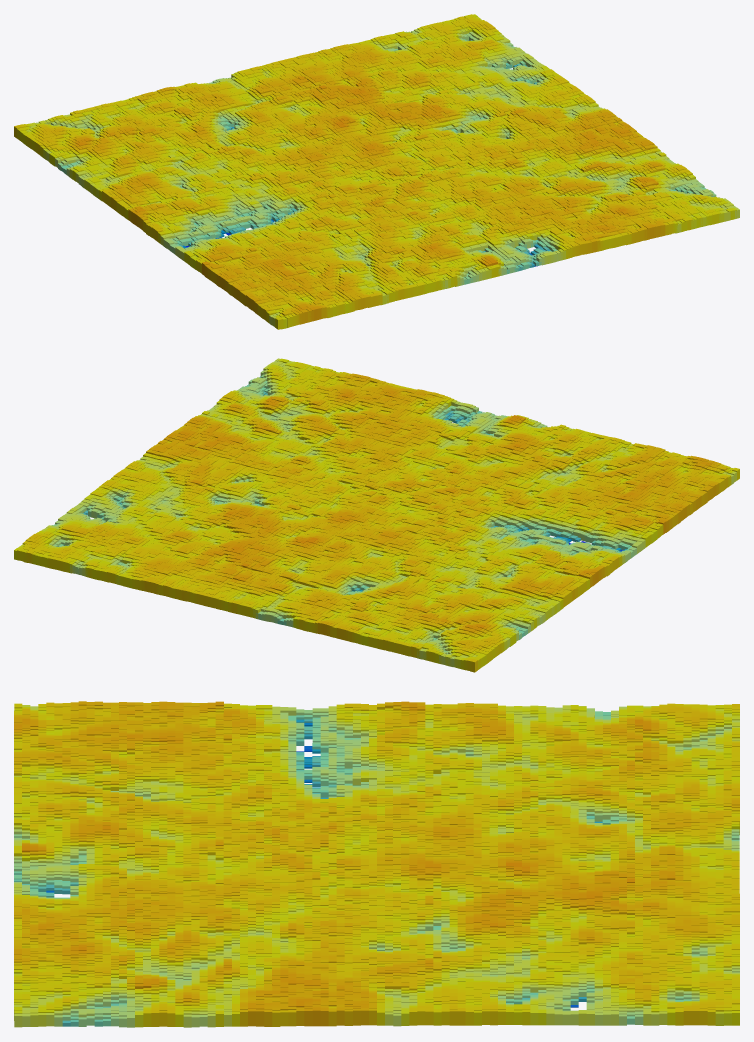
Rendered from population.glb.
3 renders of one model, top to bottom at view 1: azimuth 30°, elevation 25°; view 2: azimuth 150°, elevation 25°; view 3: azimuth 270°, elevation 25°, orthographic. The views are drawn at different scales.
Parts seen in each view (by area): view 1: population; view 2: population; view 3: population.
Boxes of the visible parts, x1,y1,x2,y2 form: population: (14,14,739,329); population: (14,358,739,672); population: (14,701,739,1027).
Size of the model in its own units: 9066 by 268 by 8999.
